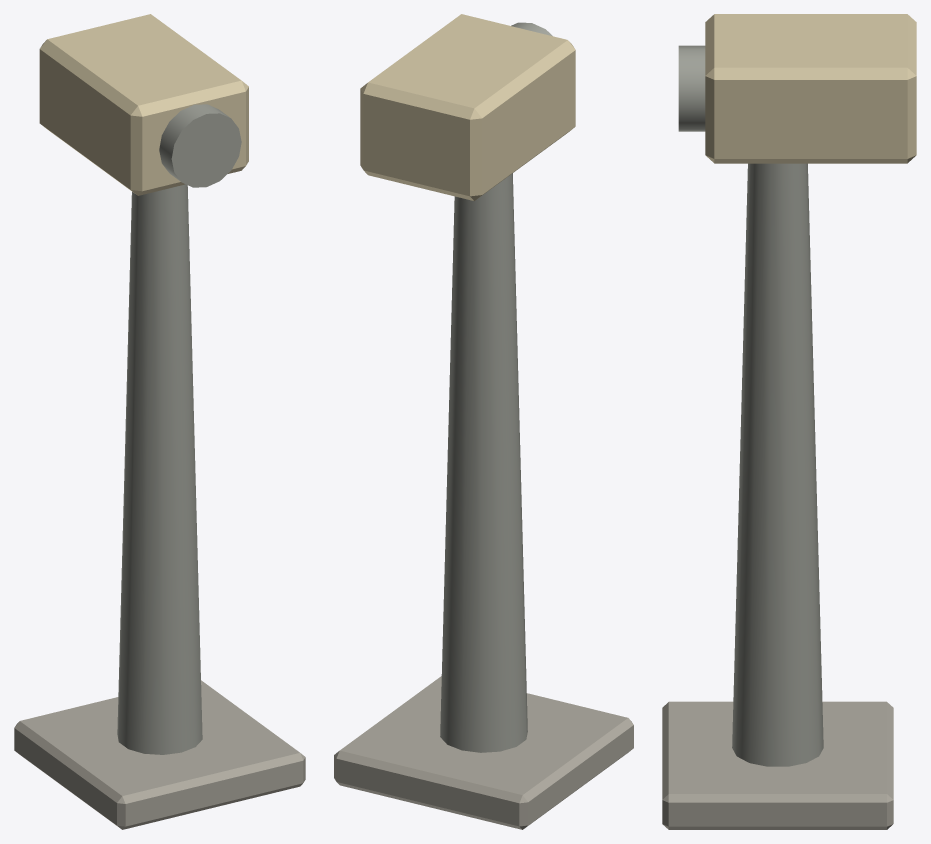
The model's file is waste_turbine_frame.glb.
The picture shows the model from 3 angles, left to right: view 1: azimuth 30°, elevation 25°; view 2: azimuth 150°, elevation 25°; view 3: azimuth 270°, elevation 25°; orthographic projection. The views are drawn at different scales.
Visible parts, largest first — view 1: duststeel, paint, concrete, duststeel.001; view 2: duststeel, paint, concrete; view 3: duststeel, paint, concrete, duststeel.001.
Boxes of the visible parts, box(x1,y1,x2,y2) form: duststeel: box(117, 184, 202, 754); paint: box(39, 14, 248, 195); concrete: box(14, 680, 305, 829); duststeel.001: box(159, 104, 241, 187); duststeel: box(440, 173, 527, 752); paint: box(360, 14, 575, 200); concrete: box(334, 676, 633, 829); duststeel: box(732, 163, 823, 766); paint: box(705, 14, 916, 163); concrete: box(662, 701, 893, 829); duststeel.001: box(678, 45, 705, 131).
Size of the model in its own units: 3.5 by 12.4 by 3.85.
